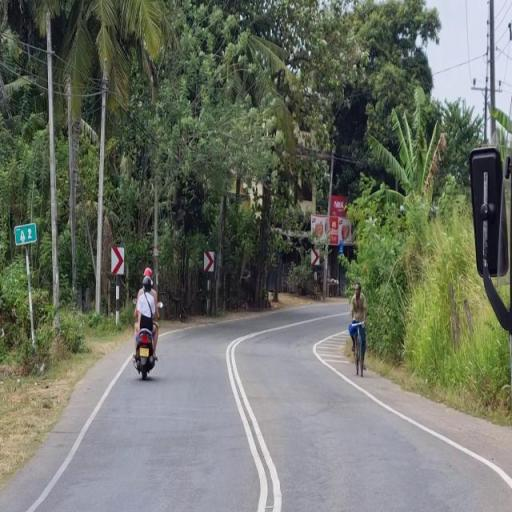double_white_line: (222, 329, 289, 510)
